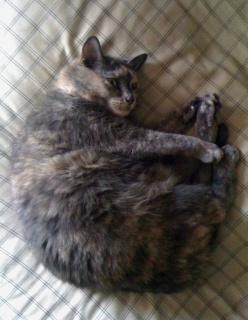Cat: (8, 34, 241, 295)
